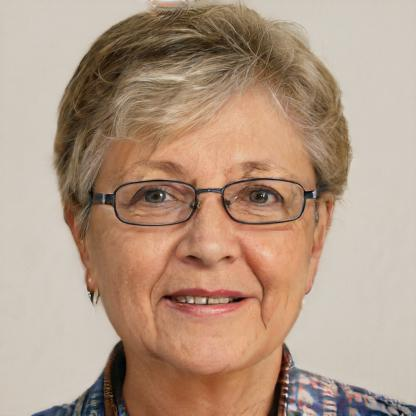glasses: (90, 173, 319, 228)
